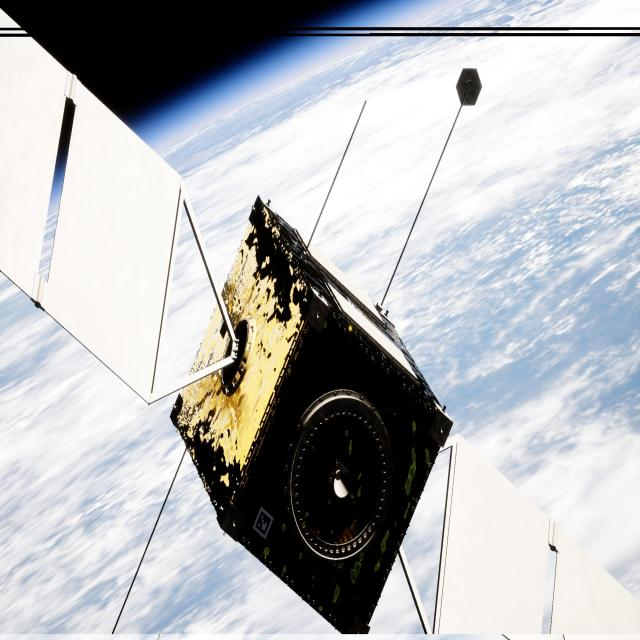satellite: (0, 12, 640, 640)
